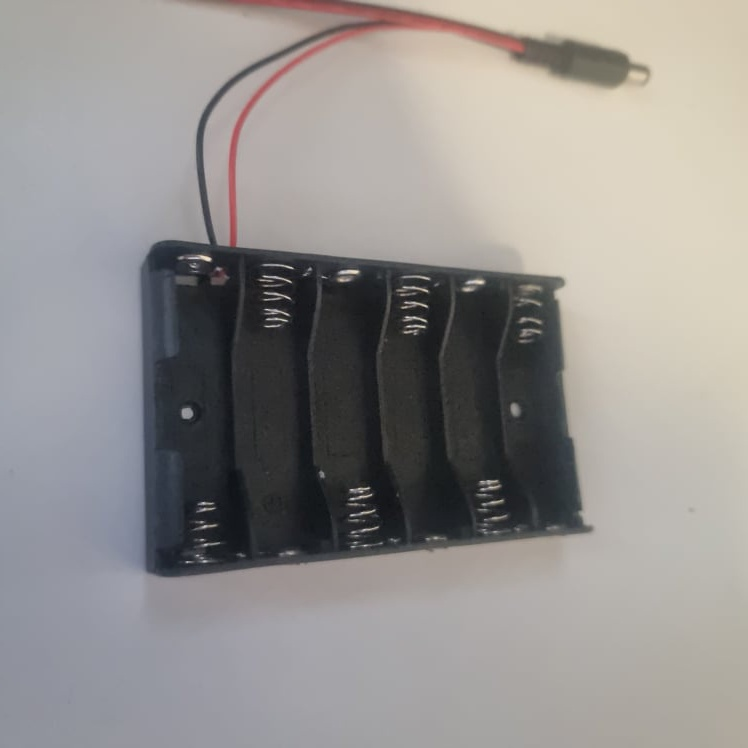BATTERY BOX: (142, 239, 594, 580)
